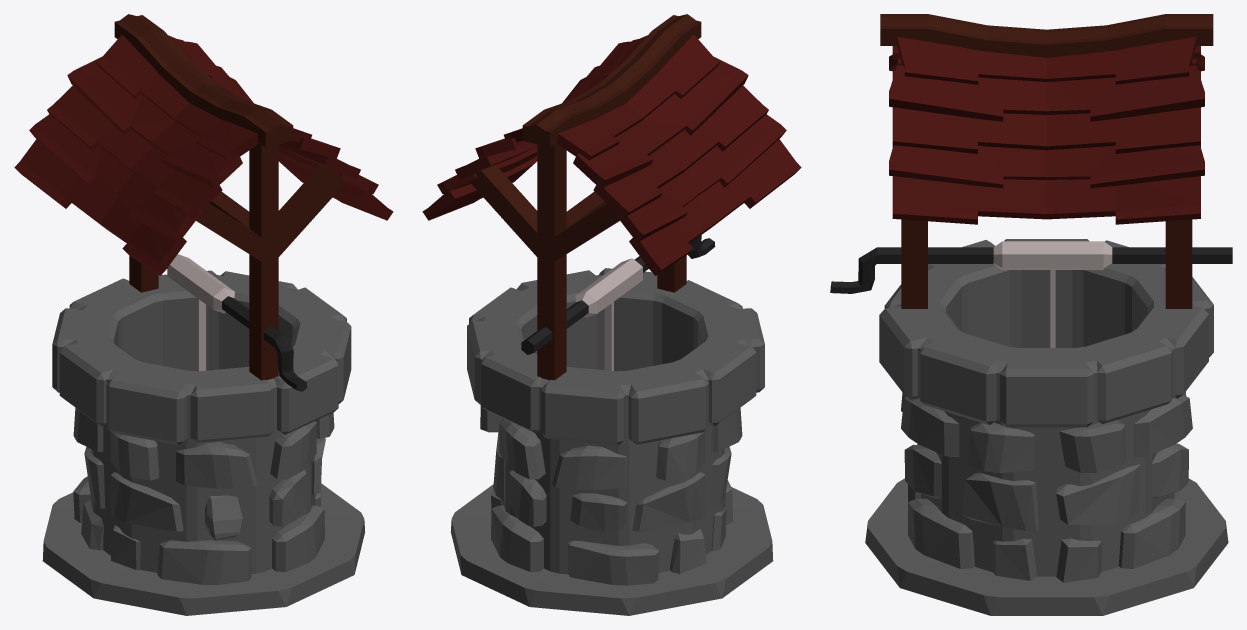
Rendered from Well.obj.
The picture shows the model from 3 angles, left to right: view 1: azimuth 30°, elevation 25°; view 2: azimuth 150°, elevation 25°; view 3: azimuth 270°, elevation 25°; orthographic projection. The views are drawn at different scales.
Visible parts, largest first — view 1: Well; view 2: Well; view 3: Well.
Boxes of the visible parts, x1,y1,x2,y2 form: Well: [14, 14, 393, 615]; Well: [422, 14, 801, 615]; Well: [830, 14, 1232, 615].
Size of the model in its own units: 1.28 by 2.15 by 1.49.
